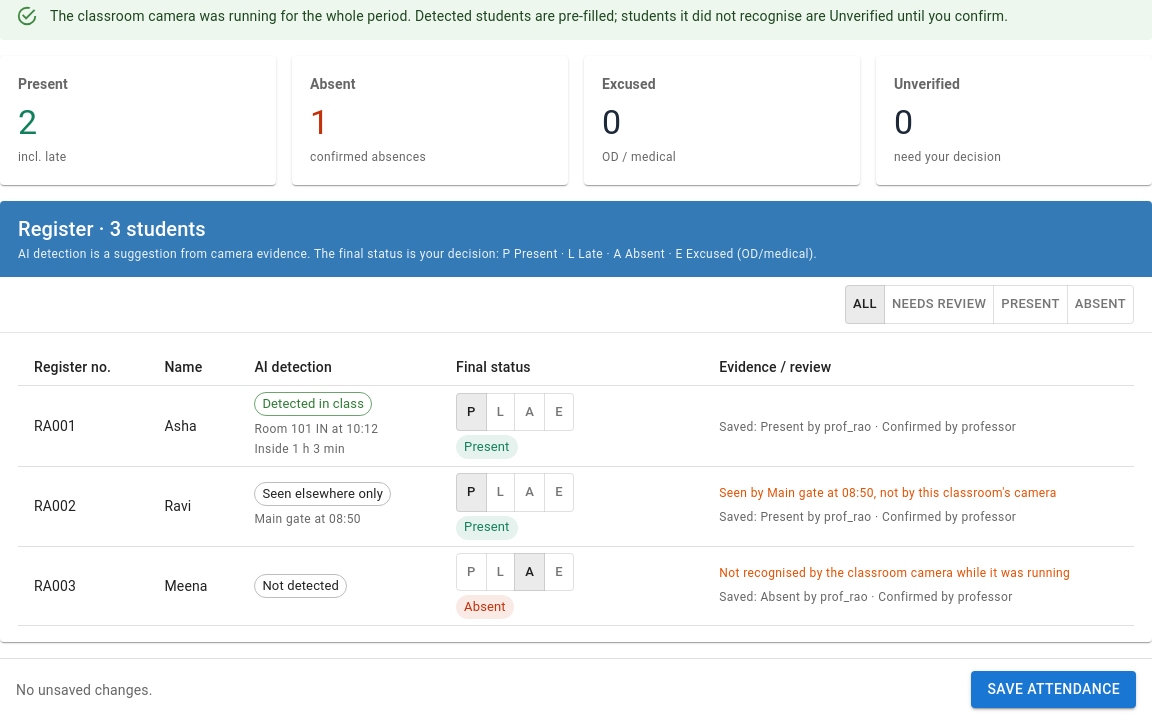
Test: class register › a submitted register says who saved it and changing a decision needs a reason
The width and height of the screenshot is (1152, 720).
(page scrolled)
Click the button named "Present for Meena" at coordinates (471, 572), box [456,553,487,592]
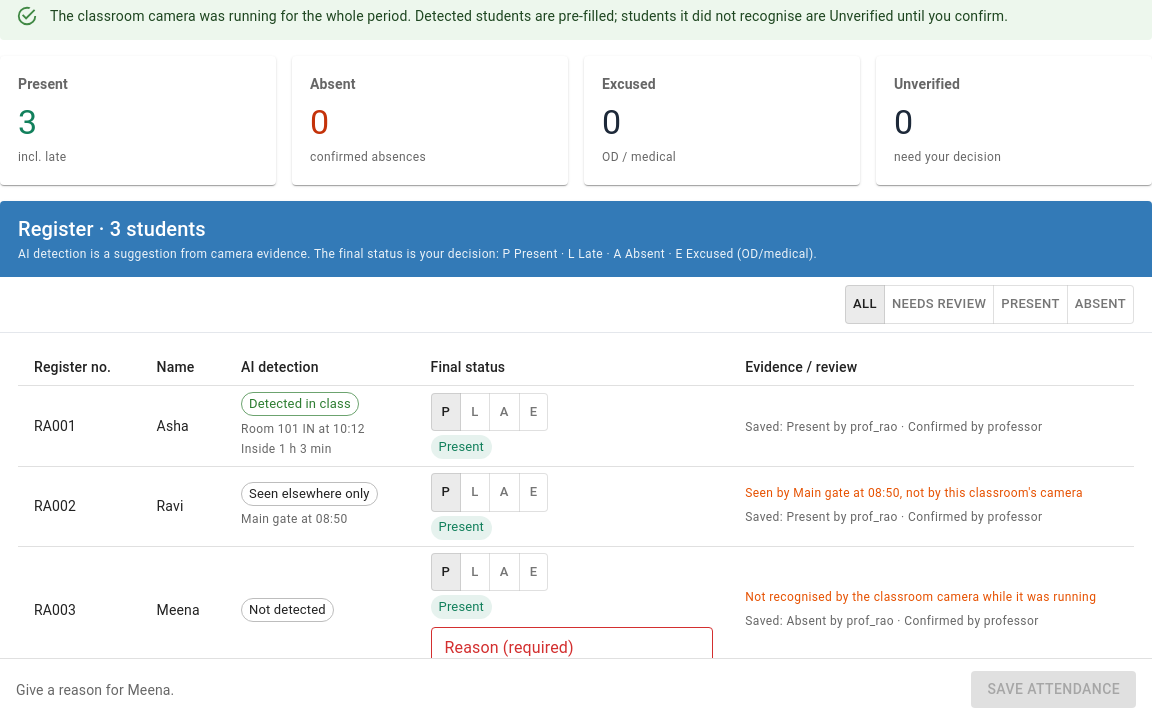
Check: the field named "Reason for Meena" is shown, box [431,627,713,667]
Check: the button "Save Attendance" is disabled, box [972,672,1136,708]
